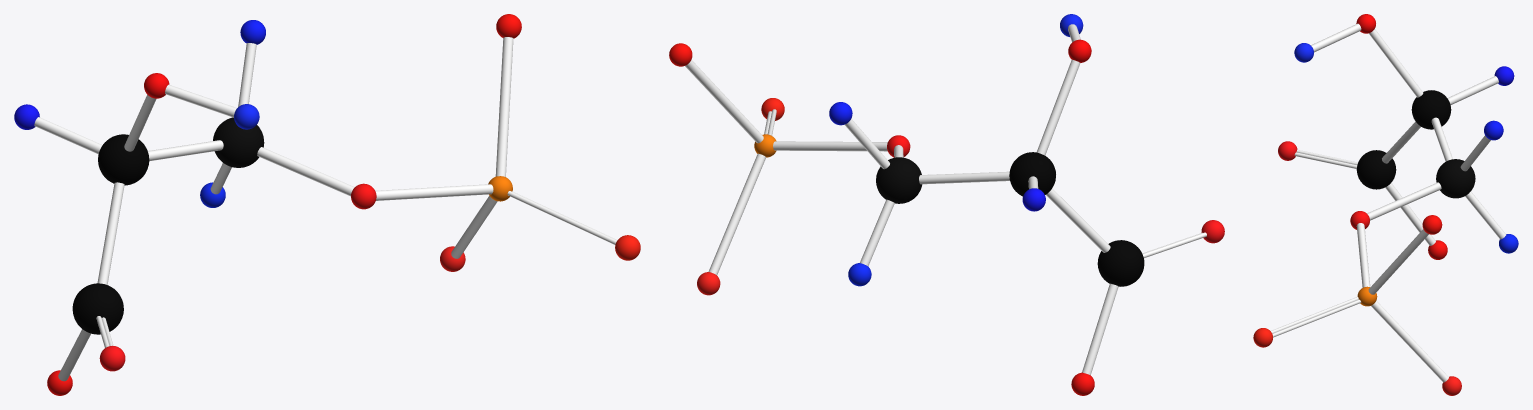
The model's file is 3-Phosphoglycerate_color.fbx.
3 renders of one model, left to right at view 1: azimuth 30°, elevation 25°; view 2: azimuth 150°, elevation 25°; view 3: azimuth 270°, elevation 25°, orthographic. The views are drawn at different scales.
Visible parts, largest first — view 1: Atom6_Clone___2_, Atom6_Clone___1_, Atom6_Clone_, Bond1_Clone___2_, Bond1_Clone_, Bond1_Clone___13_, Bond1_Clone___3_, Bond1_Clone___10_, Bond1_Clone___5_, Bond1_Clone___14_, Bond1_Clone___1_, Bond2B (+7 smaller); view 2: Atom6_Clone___2_, Atom6_Clone_, Atom6_Clone___1_, Bond1_Clone___1_, Bond1_Clone___2_, Bond1_Clone_, Bond1_Clone___4_, Bond1_Clone___8_, Bond1_Clone___10_, Bond1_Clone___13_, Bond1_Clone___12_, Bond1_Clone___11_; view 3: Atom6_Clone___2_, Atom6_Clone_, Atom6_Clone___1_, Bond1_Clone___1_, Bond1_Clone___2_, Bond1_Clone___4_, Bond1_Clone___3_, Bond1_Clone_, Bond1_Clone___8_, Bond1_Clone___12_, Bond1_Clone___14_, Bond1_Clone___5_ (+18 smaller).
Part boxes in pixels (left/top/right/bottom): Atom6_Clone___2_: left=72, top=283, right=123, bottom=334; Atom6_Clone___1_: left=98, top=134, right=149, bottom=185; Atom6_Clone_: left=213, top=117, right=264, bottom=167; Bond1_Clone___2_: left=495, top=37, right=513, bottom=176; Bond1_Clone_: left=375, top=184, right=493, bottom=200; Bond1_Clone___13_: left=97, top=182, right=124, bottom=284; Bond1_Clone___3_: left=257, top=147, right=354, bottom=196; Bond1_Clone___10_: left=147, top=140, right=223, bottom=161; Bond1_Clone___5_: left=165, top=84, right=236, bottom=117; Bond1_Clone___14_: left=34, top=117, right=102, bottom=154; Bond1_Clone___1_: left=451, top=196, right=497, bottom=258; Bond2B: left=507, top=191, right=617, bottom=244; Atom6_Clone___2_: left=1097, top=240, right=1144, bottom=286; Atom6_Clone_: left=876, top=157, right=922, bottom=203; Atom6_Clone___1_: left=1009, top=152, right=1055, bottom=196; Bond1_Clone___1_: left=708, top=153, right=766, bottom=274; Bond1_Clone___2_: left=685, top=60, right=763, bottom=143; Bond1_Clone_: left=773, top=141, right=887, bottom=151; Bond1_Clone___4_: left=1036, top=59, right=1080, bottom=155; Bond1_Clone___8_: left=1082, top=283, right=1118, bottom=375; Bond1_Clone___10_: left=919, top=171, right=1009, bottom=184; Bond1_Clone___13_: left=1046, top=188, right=1110, bottom=252; Bond1_Clone___12_: left=860, top=199, right=894, bottom=266; Bond1_Clone___11_: left=844, top=119, right=889, bottom=169; Atom6_Clone___2_: left=1356, top=150, right=1396, bottom=189; Atom6_Clone_: left=1436, top=159, right=1475, bottom=198; Atom6_Clone___1_: left=1411, top=90, right=1451, bottom=129; Bond1_Clone___1_: left=1371, top=301, right=1448, bottom=382; Bond1_Clone___2_: left=1368, top=229, right=1428, bottom=294; Bond1_Clone___4_: left=1369, top=29, right=1423, bottom=97; Bond1_Clone___3_: left=1367, top=182, right=1441, bottom=220; Bond1_Clone_: left=1356, top=223, right=1370, bottom=287; Bond1_Clone___8_: left=1385, top=183, right=1435, bottom=245; Bond1_Clone___12_: left=1465, top=191, right=1506, bottom=239; Bond1_Clone___14_: left=1447, top=76, right=1498, bottom=104; Bond1_Clone___5_: left=1311, top=23, right=1361, bottom=52.
Size of the model in its own units: 585 by 367 by 335.
